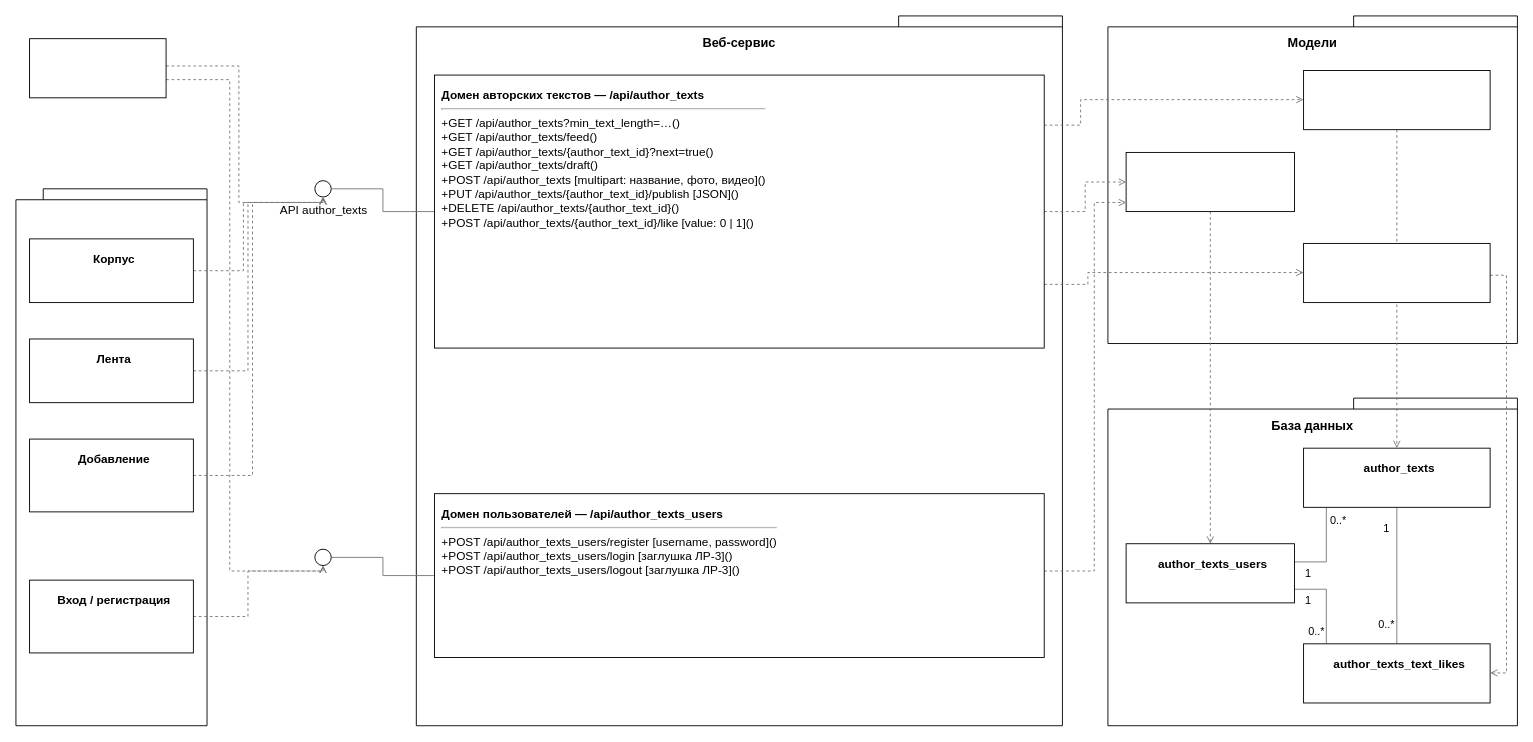
Image size: 1533x742. Some labels were removed from this diagram. Here are the shapes that lost their labels. From the top down, the box of each, then its label:
(29, 38, 166, 98): Postman
(1303, 70, 1490, 130): AuthorText
(1125, 152, 1294, 212): AuthorTextsUser
(1303, 243, 1490, 303): AuthorTextsLike
(15, 188, 207, 726): Фронтенд
(314, 548, 331, 566): API users
